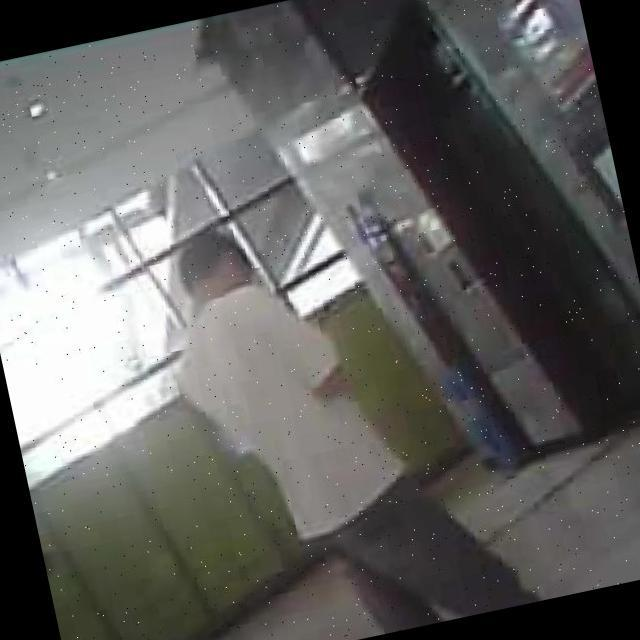person: (145, 171, 548, 640)
